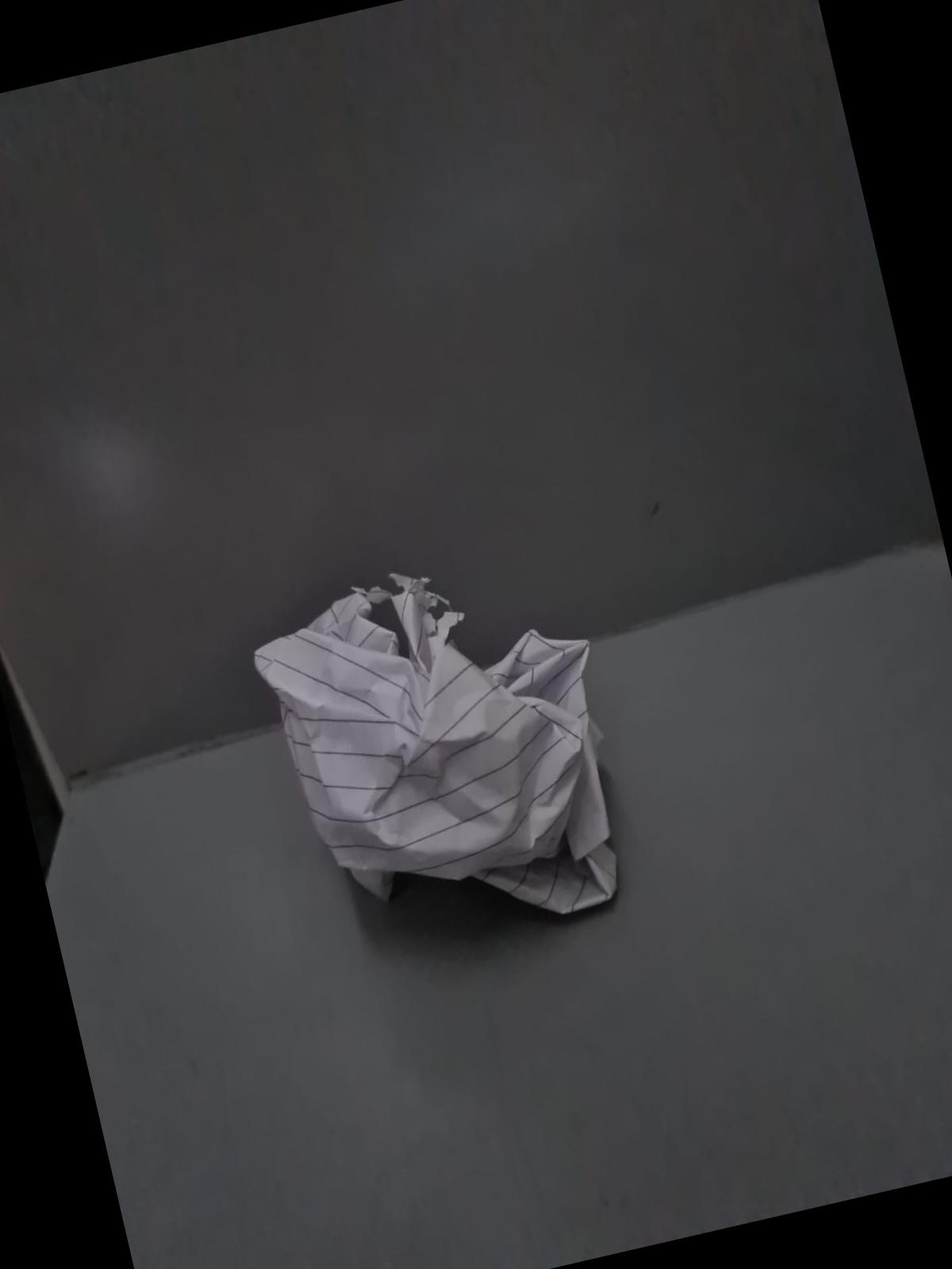Kertas: (254, 573, 616, 913)
